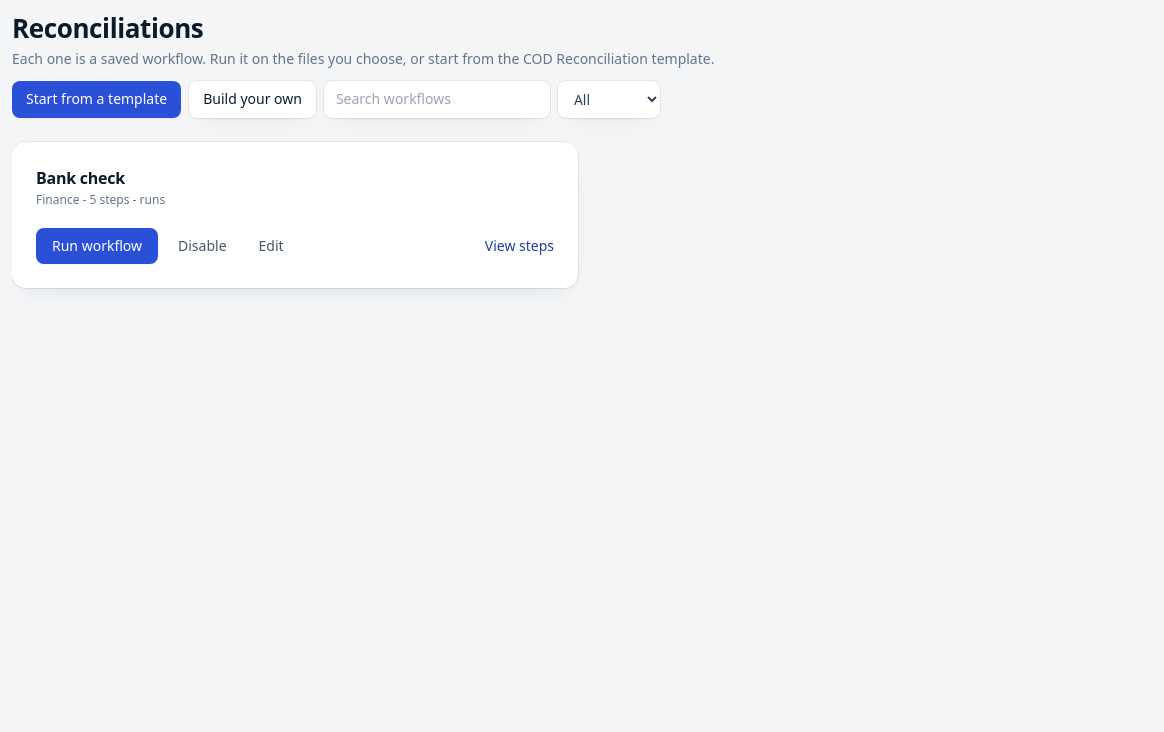
Test: workflows that ask for files › the chosen files are sent with the run
Step 1. Click the button "Run workflow" → (97, 246), box [36,228,158,264]
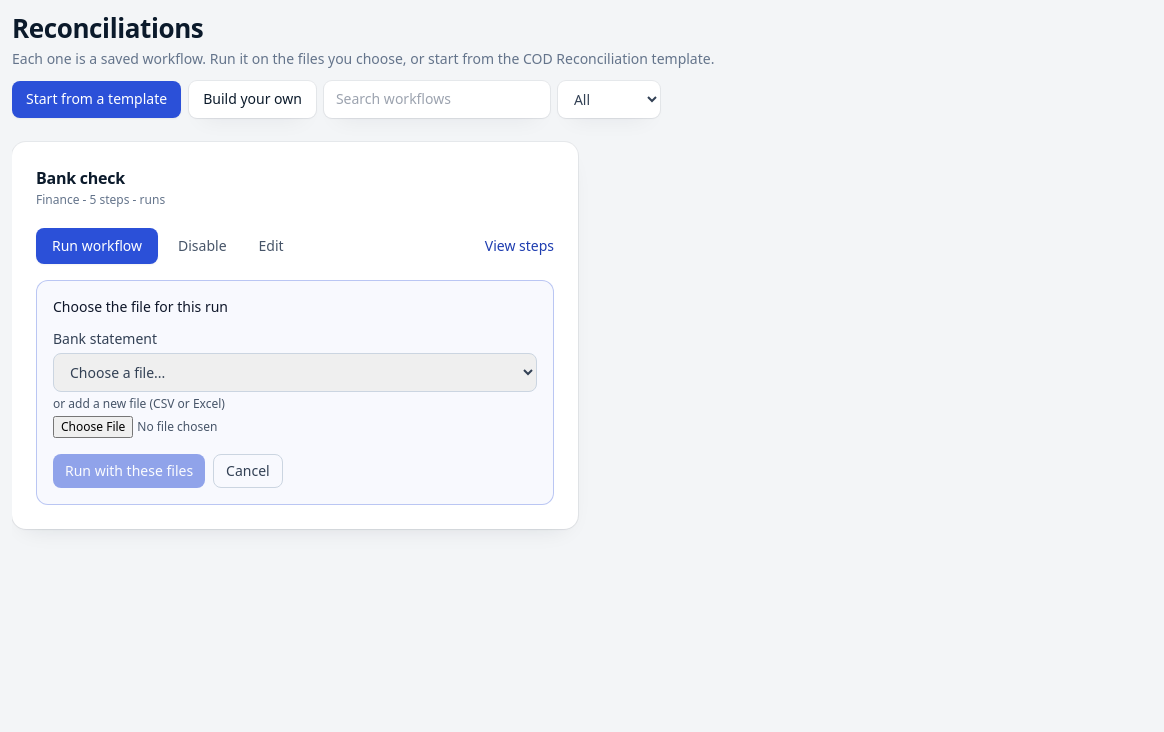
Step 2. Select "invoices.csv" in the dropdown labelled "Bank statement" → (295, 372), box [53,352,537,392]
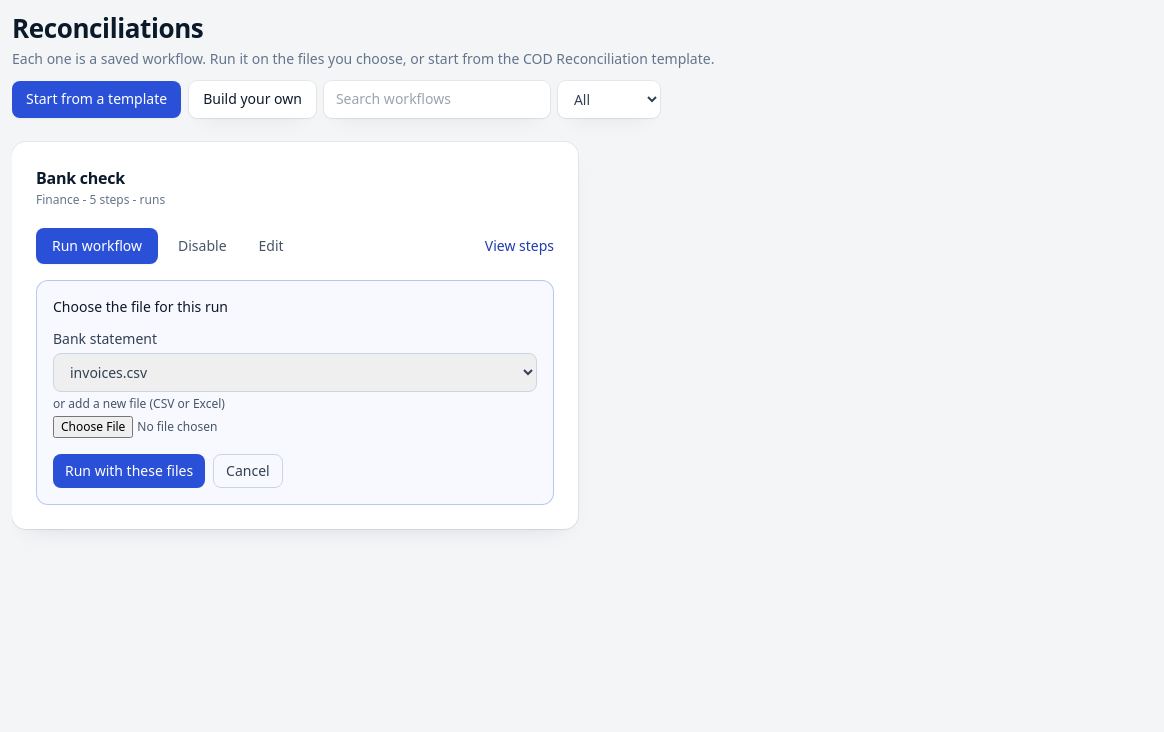
Step 3. Click the button "Run with these files" → (129, 470), box [53,454,205,488]
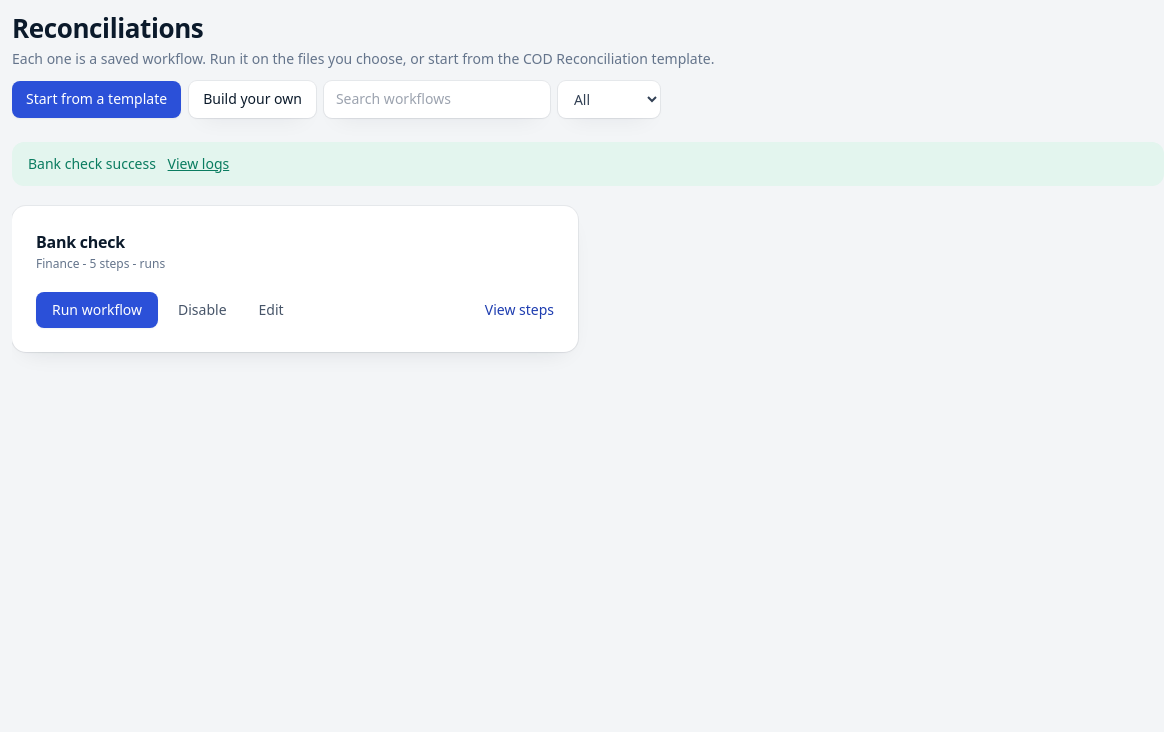
Check: the text "Bank check success View logs" is shown, box [12,142,1163,186]
